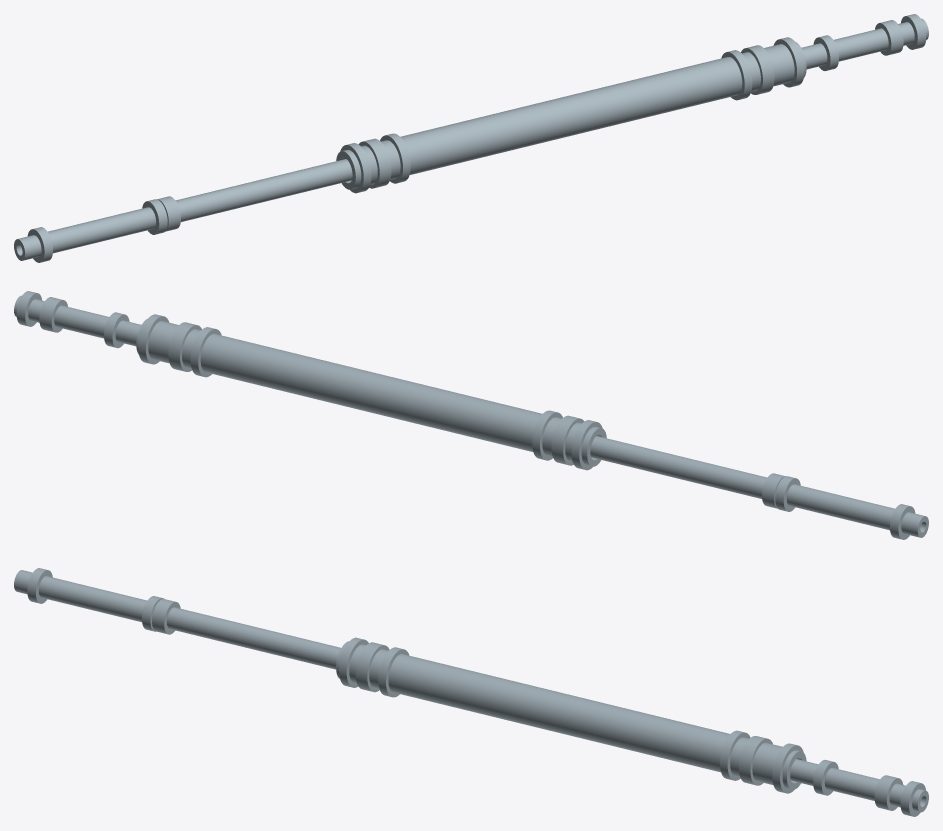
The model's file is shaft-dual-spool.glb.
3 views of the same model, one above another, from view 1: azimuth 30°, elevation 25°; view 2: azimuth 150°, elevation 25°; view 3: azimuth 330°, elevation 25° (orthographic).
Parts seen in each view (by area): view 1: shaft-dual-spool - steel; view 2: shaft-dual-spool - steel; view 3: shaft-dual-spool - steel.
Boxes of the visible parts, x1=… form: shaft-dual-spool - steel: x1=14, y1=14, x2=928, y2=262; shaft-dual-spool - steel: x1=14, y1=291, x2=928, y2=539; shaft-dual-spool - steel: x1=14, y1=568, x2=928, y2=816.
Size of the model in its own units: 8.28 by 0.392 by 0.3919.
